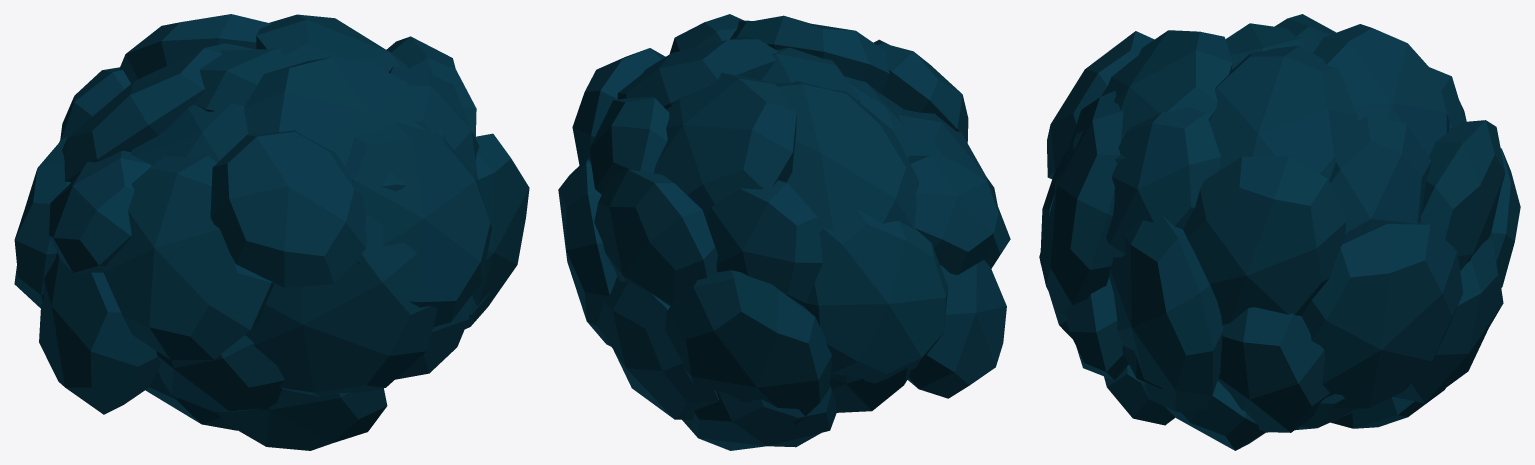
Rendered from rock.fbx.
The picture shows the model from 3 angles, left to right: view 1: azimuth 30°, elevation 25°; view 2: azimuth 150°, elevation 25°; view 3: azimuth 270°, elevation 25°; orthographic projection. The views are drawn at different scales.
Visible parts, largest first — view 1: rock; view 2: rock; view 3: rock.
Boxes of the visible parts, x1,y1,x2,y2 form: rock: (14, 14, 529, 450); rock: (558, 14, 1010, 450); rock: (1039, 14, 1520, 450).
Bounding box in the file's own units: 74.89 × 62.75 × 68.98.
Materials: 1 (1 with a texture image).
